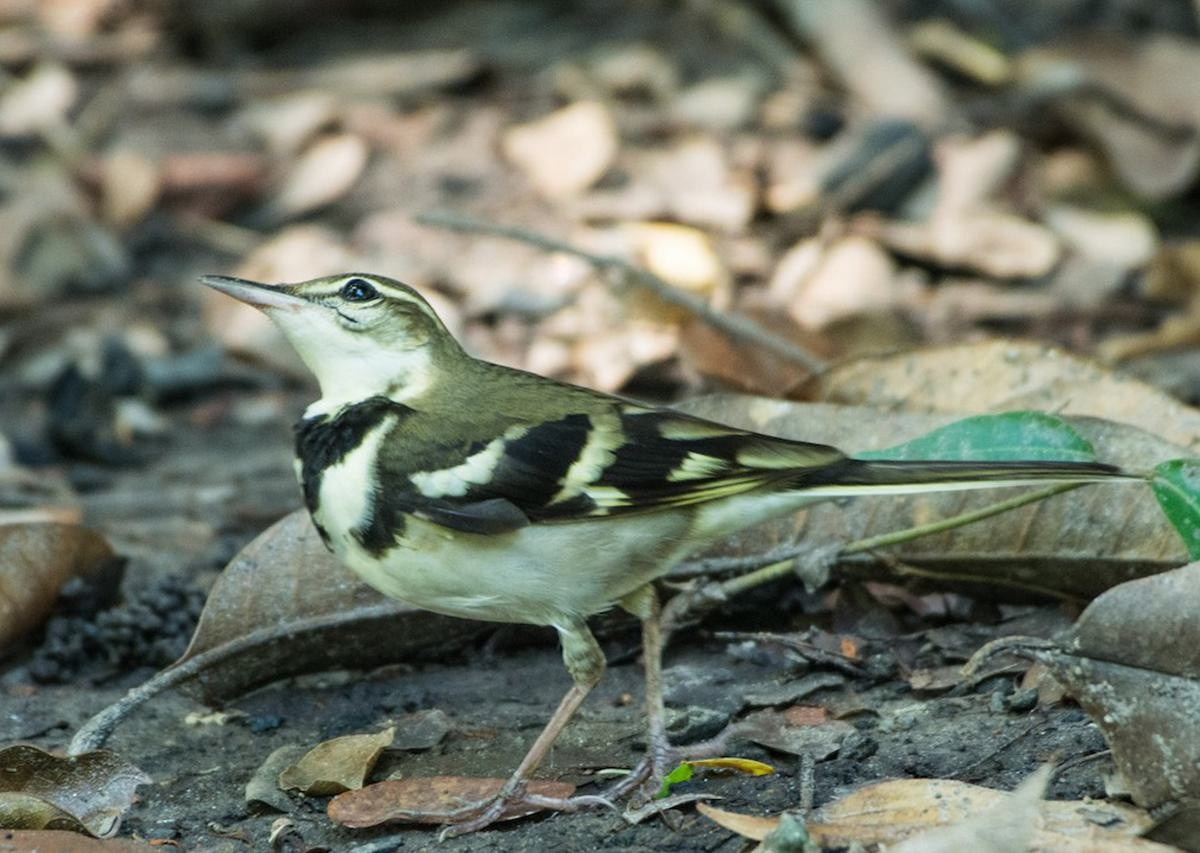wagtail: (195, 250, 903, 779)
